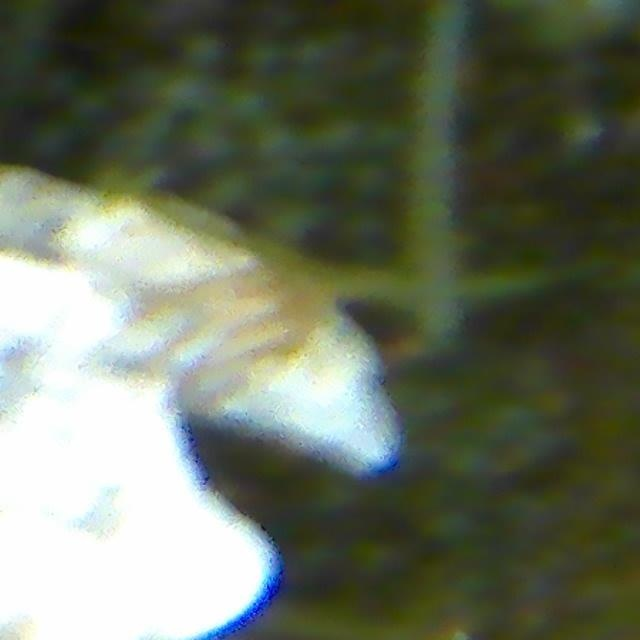SeaGrape: (204, 166, 259, 217), (183, 117, 235, 167), (162, 68, 216, 116), (252, 119, 301, 167), (223, 79, 269, 127), (183, 30, 227, 73)
